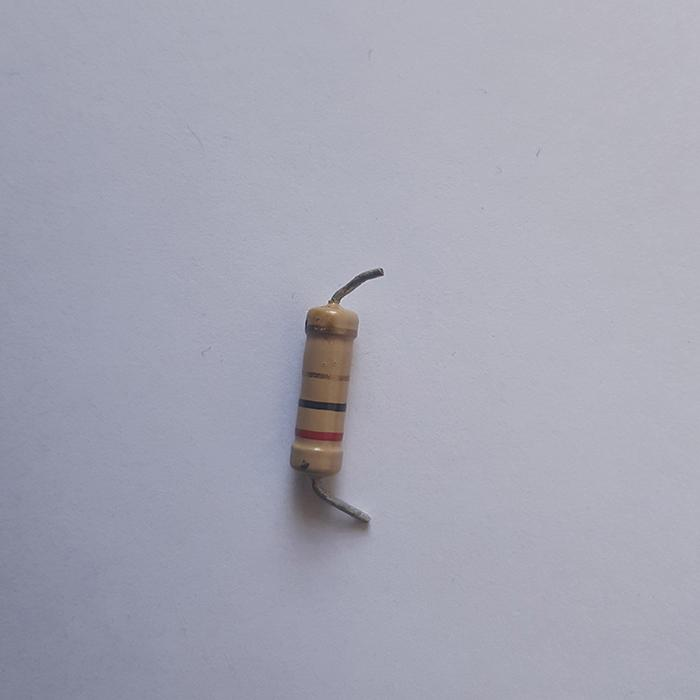resistor: (287, 304, 359, 483)
